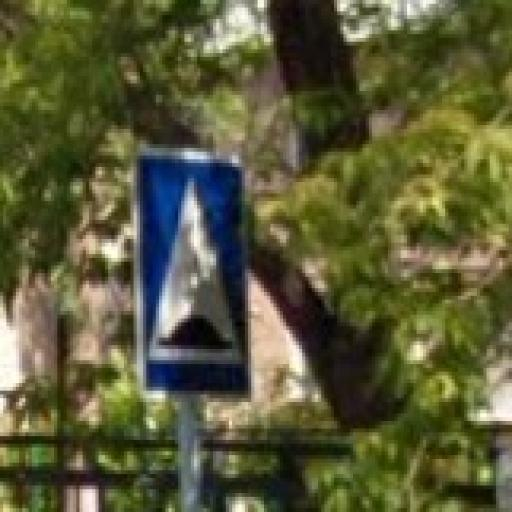traffic_sign: (129, 141, 256, 407)
